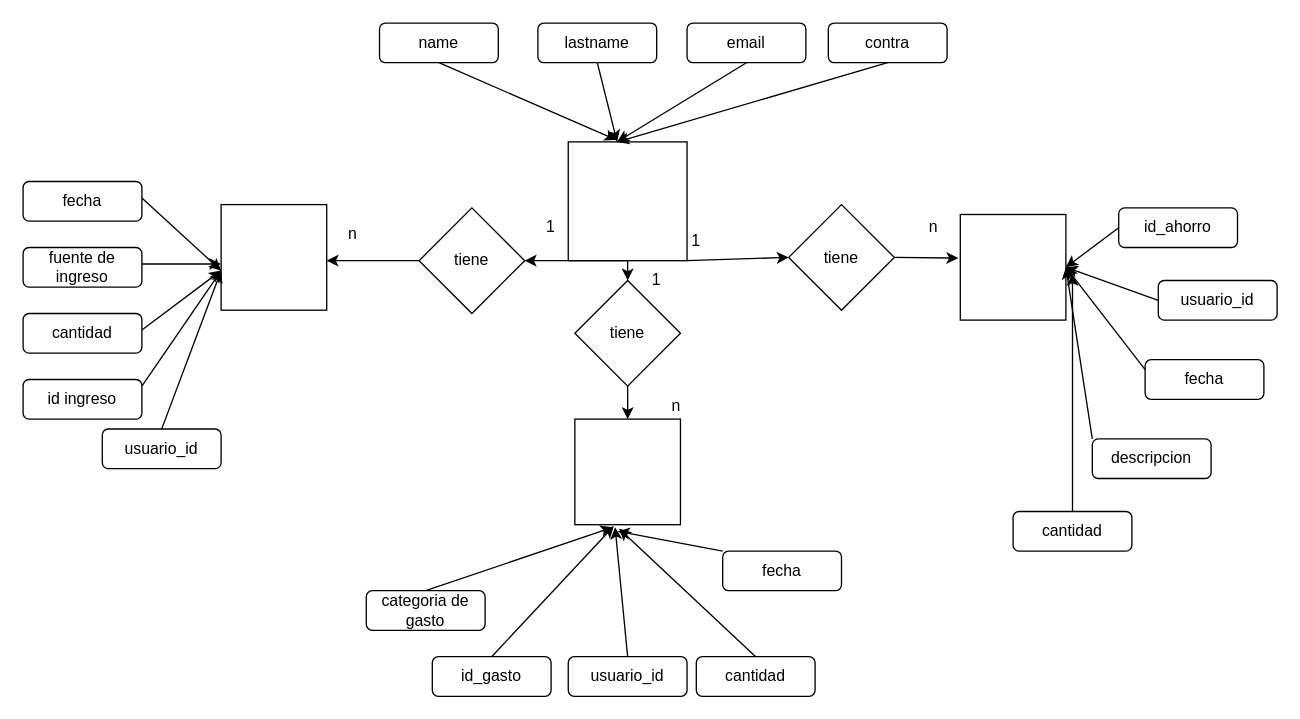
Some shapes in this 1300 by 719 pixel diagram are drawn without their labels. The shapes that lost their labels are listed below. From the top down, each one's box as (x1, y1, x2, y2) in pixels, then its label:
(567, 141, 687, 261): usuarios
(220, 203, 327, 310): Ingresos
(959, 213, 1066, 320): Ahorro
(574, 418, 680, 525): Gastos
